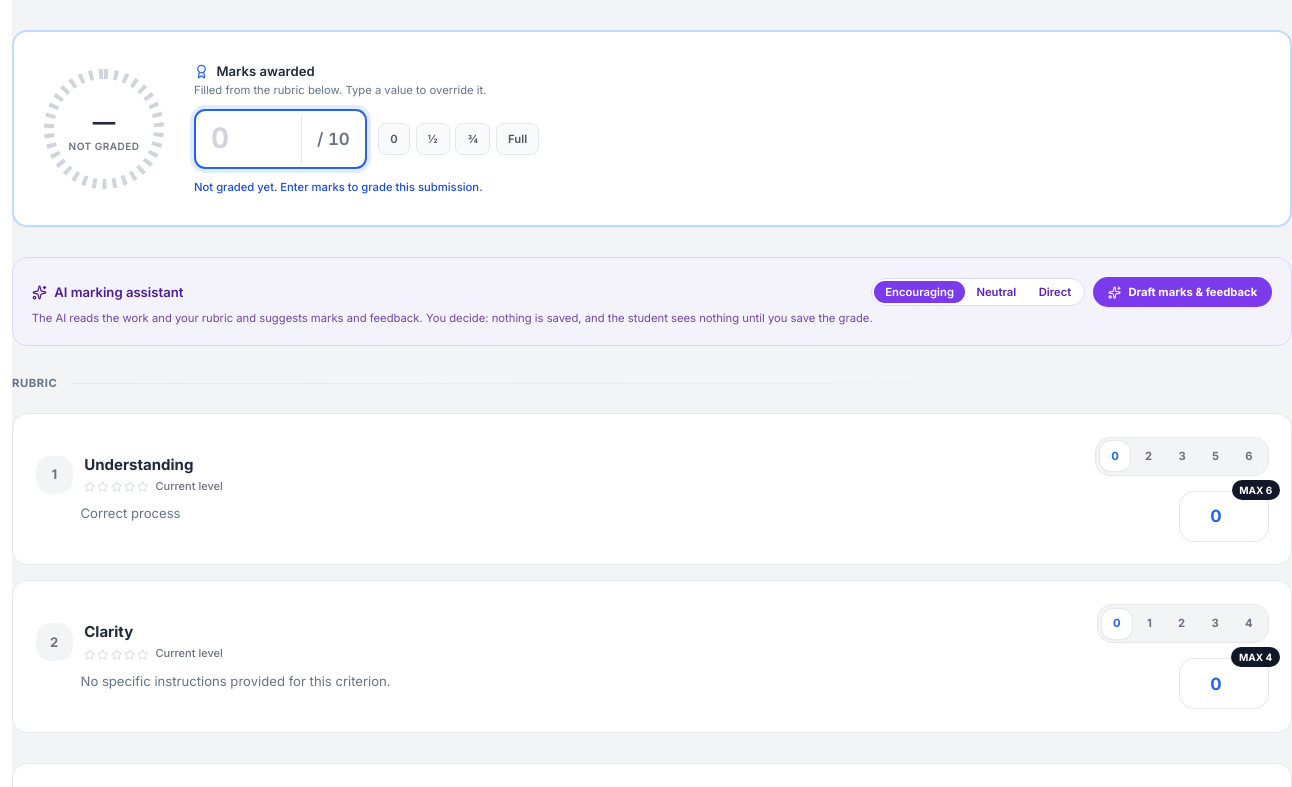
Test: AI marking assistant › explains a failure without touching the form
Click the button "Draft marks & feedback" at {"x": 1182, "y": 292}, box [1093, 277, 1272, 307]
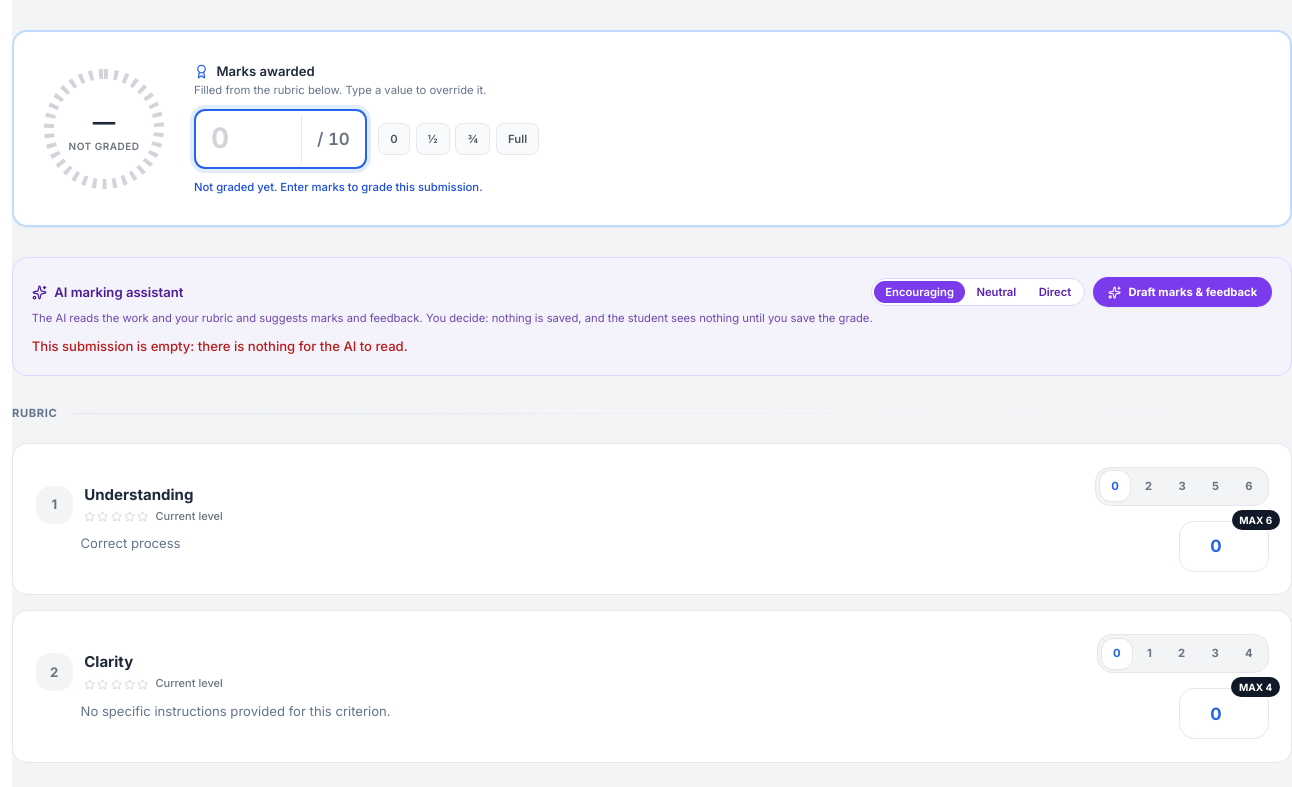
Result: the message shows "nothing for the AI to read" at [32, 338, 408, 354]
